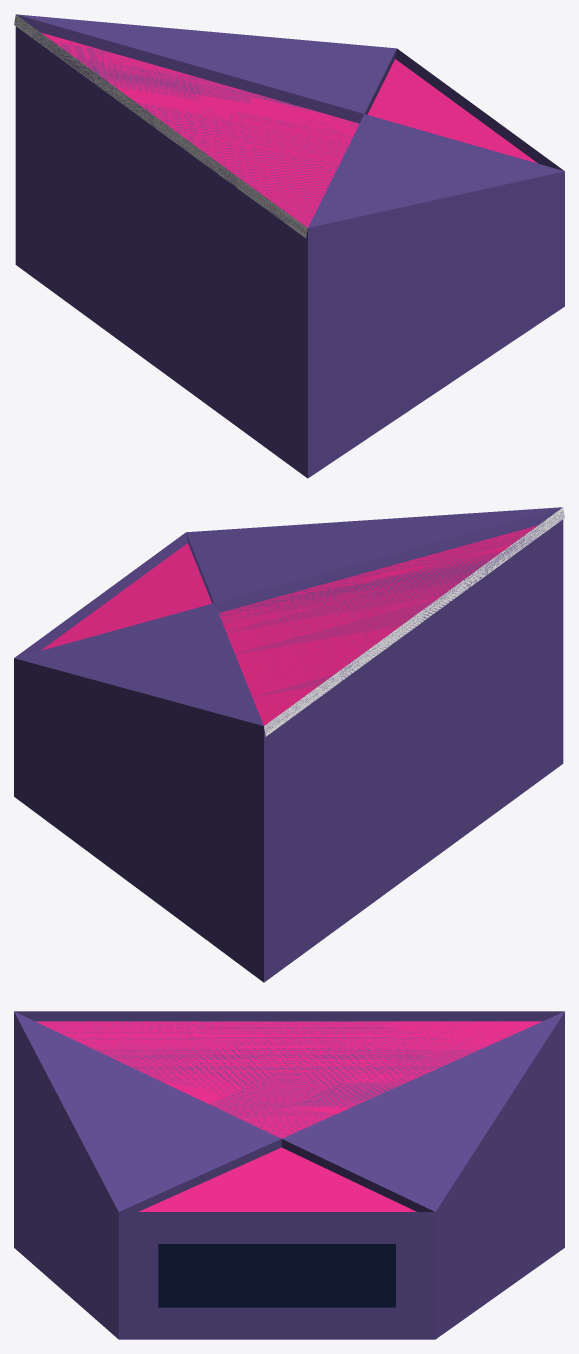
The model's file is firewall_1.dae.
3 renders of one model, top to bottom at view 1: azimuth 30°, elevation 25°; view 2: azimuth 150°, elevation 25°; view 3: azimuth 270°, elevation 25°, orthographic. The views are drawn at different scales.
Parts seen in each view (by area): view 1: SketchUp (×5); view 2: SketchUp (×5); view 3: SketchUp (×5).
Boxes of the visible parts, left/top/right/bottom form: SketchUp (×5): left=14, top=14, right=564, bottom=478; SketchUp (×5): left=14, top=507, right=564, bottom=982; SketchUp (×5): left=14, top=1011, right=564, bottom=1339.
Size of the model in its own units: 50.68 by 81.54 by 38.58.
